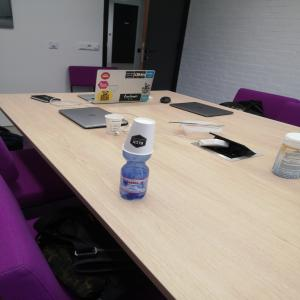Cup: (123, 118, 157, 157), (106, 115, 125, 136)
Plastic-bottle: (120, 156, 153, 202)
